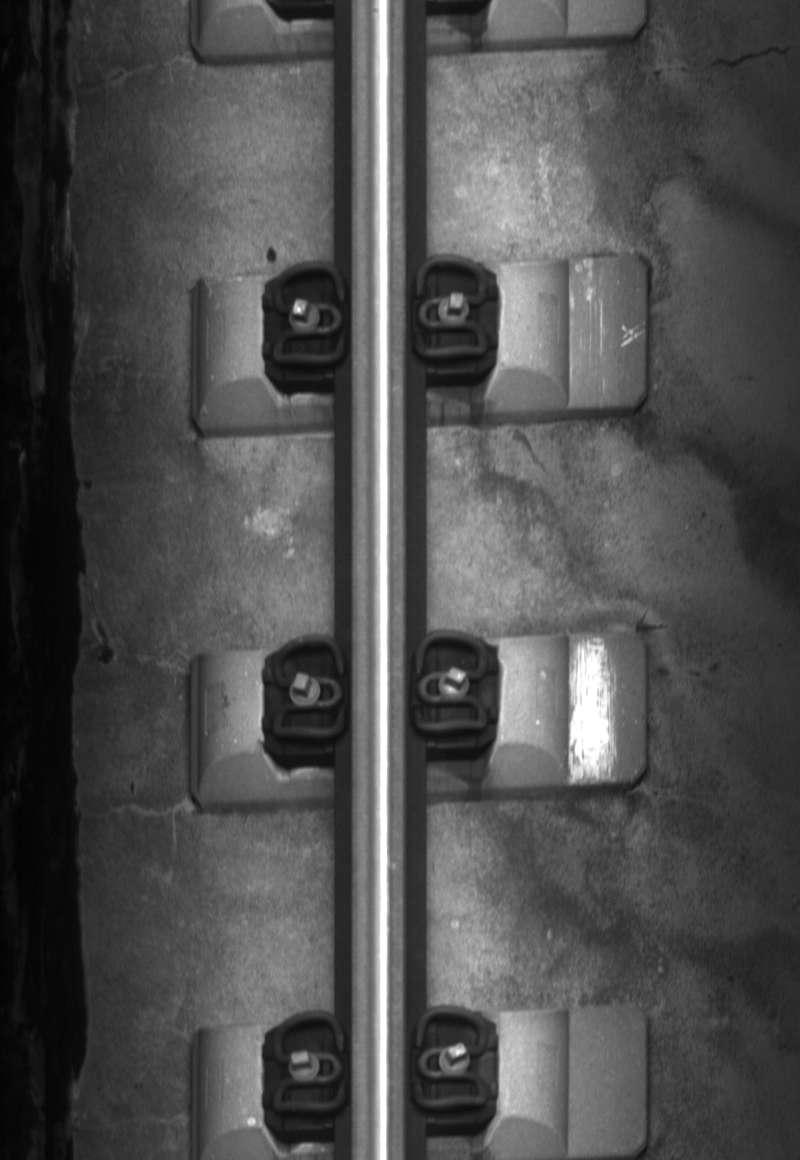l_faster: (265, 1007, 351, 1121), (265, 259, 351, 368), (266, 631, 349, 743)
r_faster: (407, 623, 494, 742), (410, 1004, 494, 1117), (411, 254, 492, 363)
